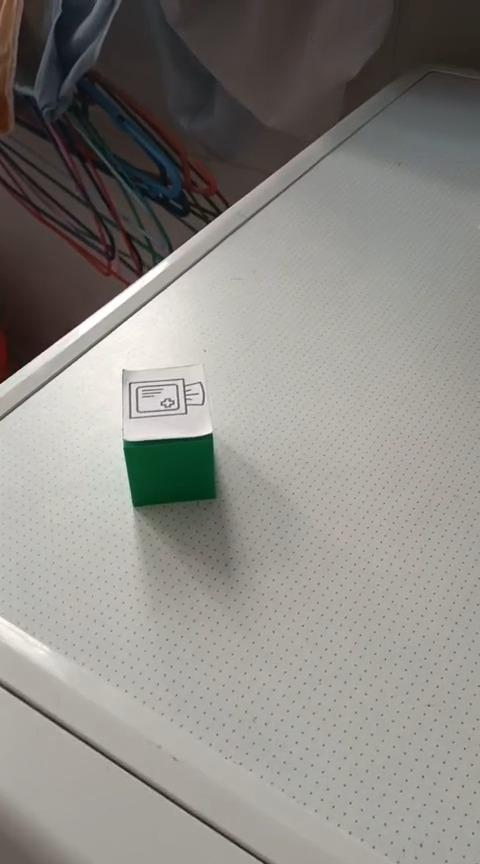Gauze: (120, 362, 217, 507)
